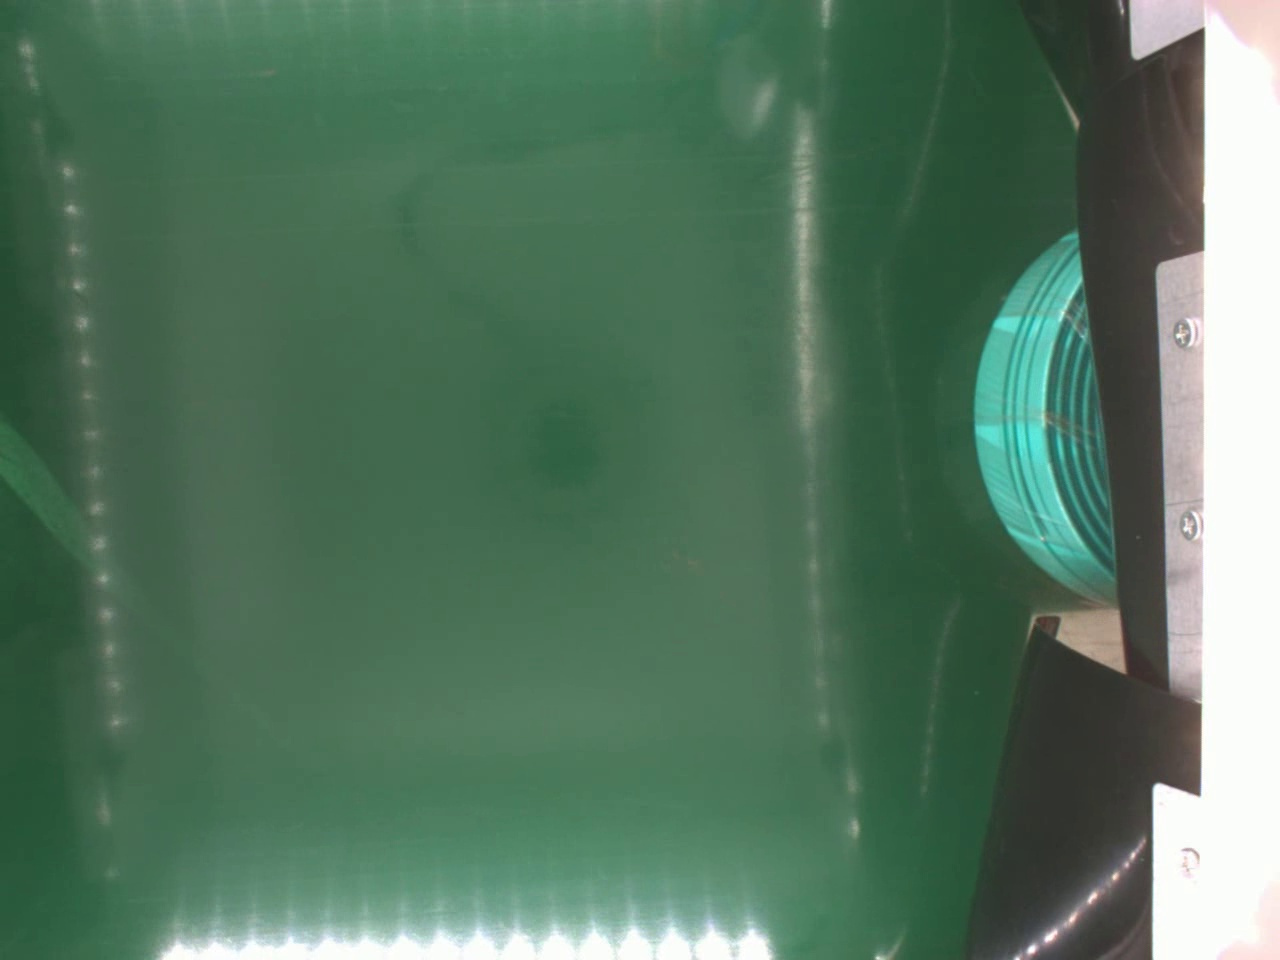green: (970, 225, 1119, 607)
